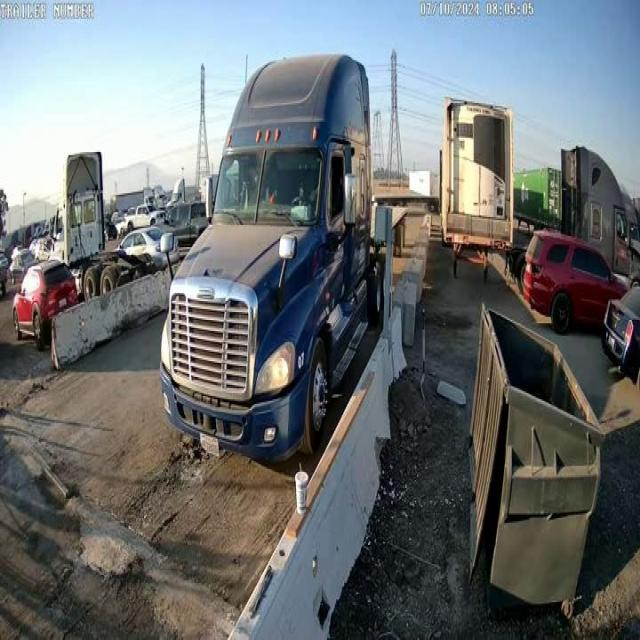TRUCK_OUT: (158, 51, 384, 465)
